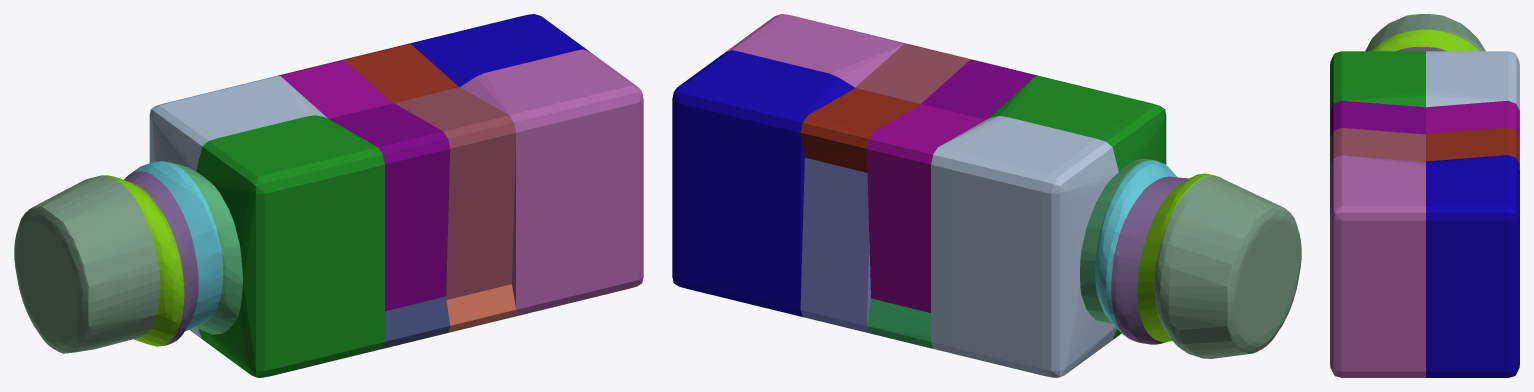
File: square_table_leg4_canonical.obj
The picture shows the model from 3 angles, left to right: view 1: azimuth 30°, elevation 25°; view 2: azimuth 150°, elevation 25°; view 3: azimuth 270°, elevation 25°; orthographic projection. The views are drawn at different scales.
Visible parts, largest first — view 1: geometry_8, geometry_7, geometry_0, geometry_13, geometry_11, geometry_6, geometry_5, geometry_2, geometry_4, geometry_15, geometry_14, geometry_3 (+3 smaller); view 2: geometry_6, geometry_5, geometry_0, geometry_14, geometry_12, geometry_8, geometry_7, geometry_15, geometry_1, geometry_13, geometry_11, geometry_2 (+3 smaller); view 3: geometry_7, geometry_5, geometry_8, geometry_6, geometry_13, geometry_11, geometry_15, geometry_14, geometry_0, geometry_4, geometry_1.
Boxes of the visible parts, x1,y1,x2,y2 form: geometry_8: (196,115,384,377); geometry_7: (460,49,643,316); geometry_0: (14,175,160,353); geometry_13: (394,87,515,299); geometry_11: (329,103,450,311); geometry_6: (149,76,327,338); geometry_5: (407,14,589,86); geometry_2: (129,161,222,331); geometry_4: (101,175,184,346); geometry_15: (341,44,458,103); geometry_14: (277,60,392,118); geometry_3: (166,161,242,334); geometry_6: (931,116,1118,377); geometry_5: (672,50,854,316); geometry_0: (1154,176,1301,358); geometry_14: (867,104,985,312); geometry_12: (800,157,870,332); geometry_8: (987,76,1166,339); geometry_7: (726,14,907,87); geometry_15: (800,88,921,172); geometry_1: (1111,176,1189,344); geometry_13: (855,44,974,103); geometry_11: (921,60,1038,119); geometry_2: (1095,160,1176,338); geometry_7: (1330,155,1425,377); geometry_5: (1426,155,1519,377); geometry_8: (1330,51,1425,169); geometry_6: (1426,51,1519,169); geometry_13: (1330,128,1425,164); geometry_11: (1330,100,1425,137); geometry_15: (1426,127,1519,164); geometry_14: (1426,100,1519,136); geometry_0: (1365,14,1485,51); geometry_4: (1371,29,1479,51); geometry_1: (1396,47,1446,51).
Bounding box in the file's own units: 0.0891 × 0.0316 × 0.0316.
